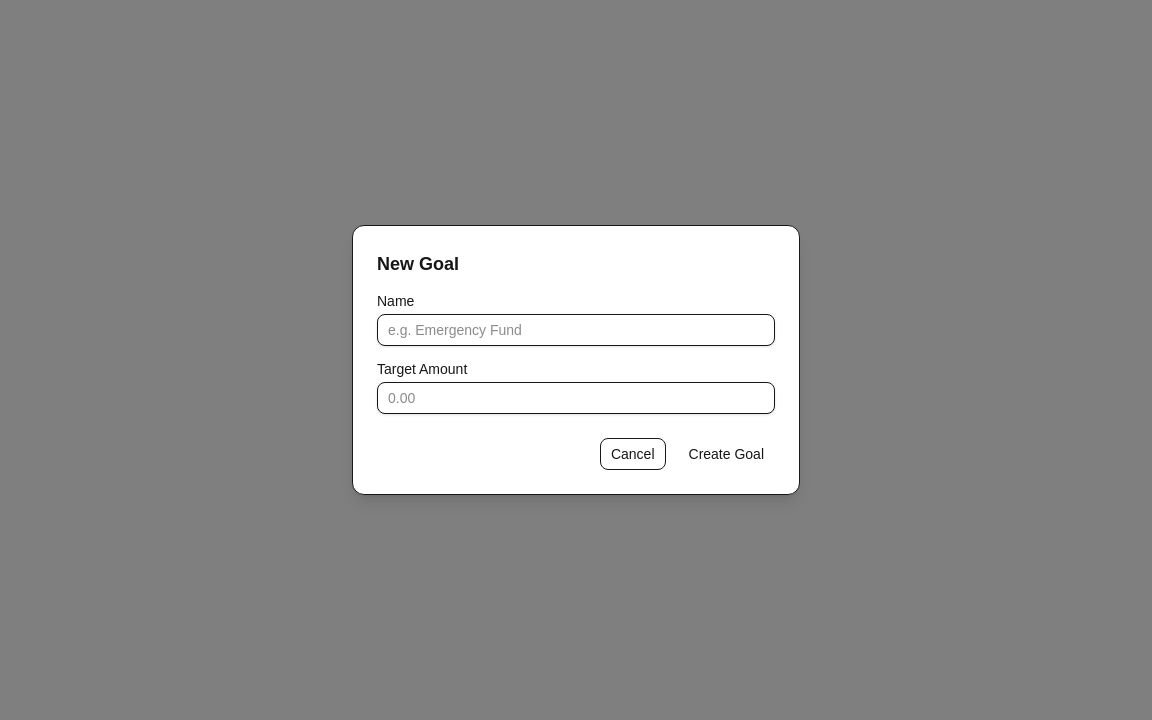
Scenario: NewSavingsGoalDialog › Validation: target must be a positive number › shows a target amount error when target is negative
The width and height of the screenshot is (1152, 720).
In the field labelled "Name": (576, 330) top-left (377, 314), bottom-right (775, 346), type "My Goal"
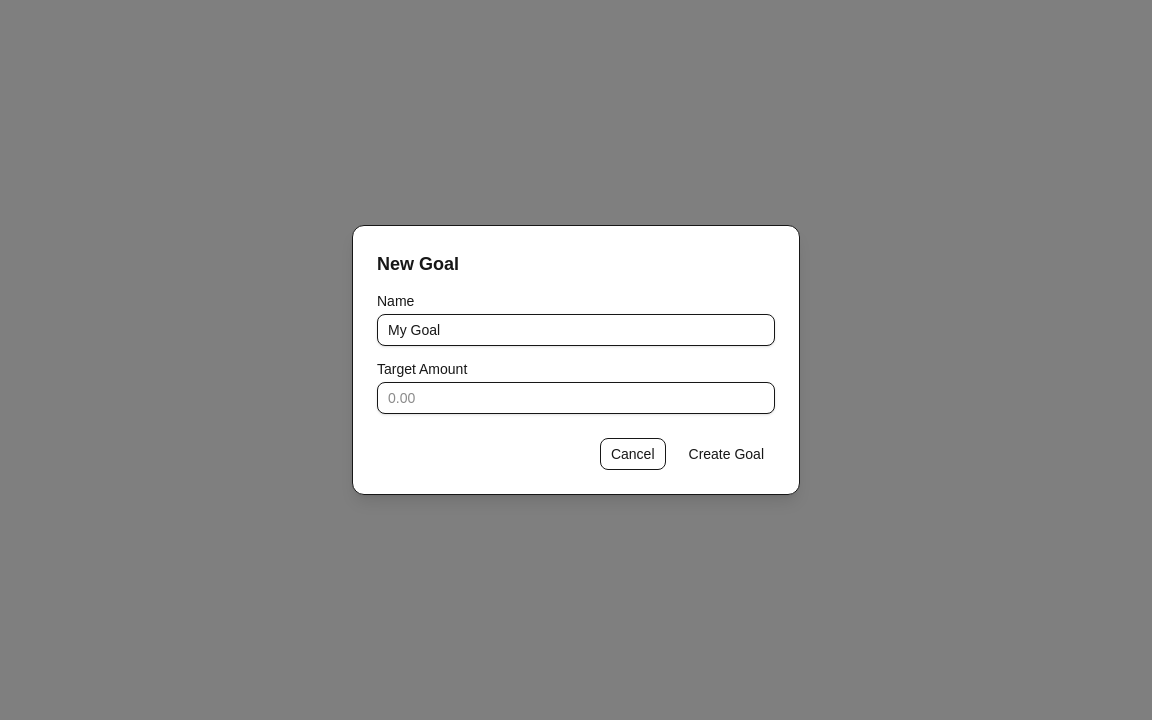
In the number field labelled "Target Amount": (576, 398) top-left (377, 382), bottom-right (775, 414), type "-100"
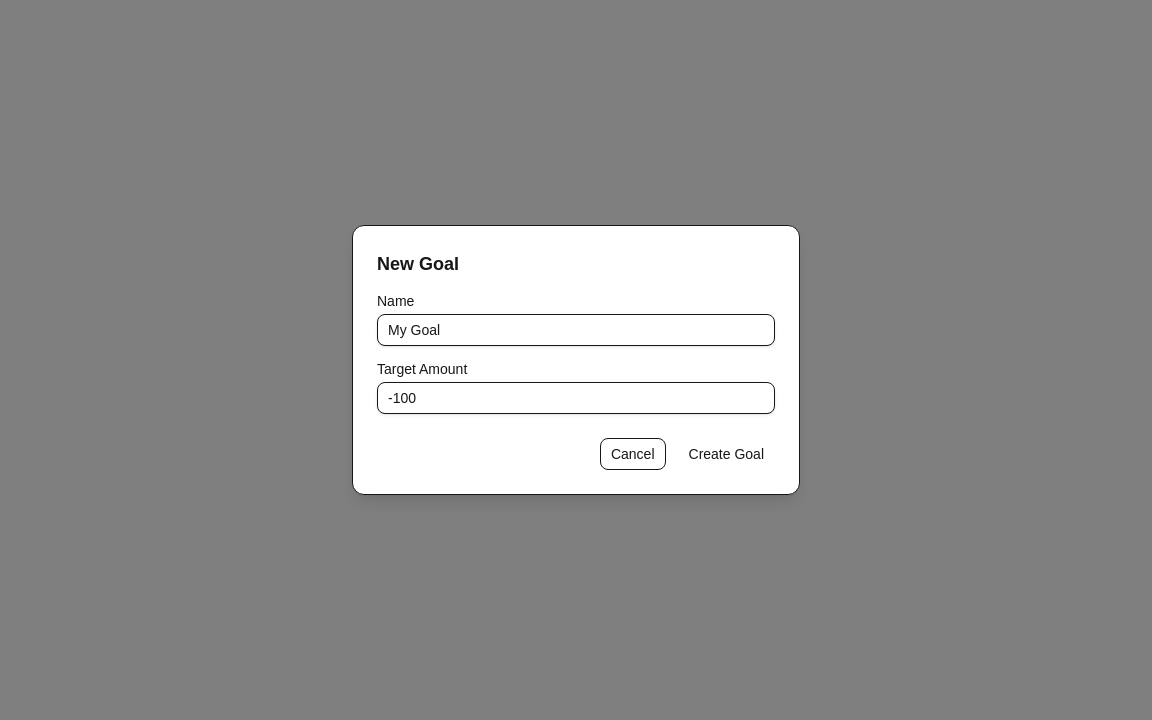
Submit the form, box top-left (377, 294), bottom-right (775, 470)
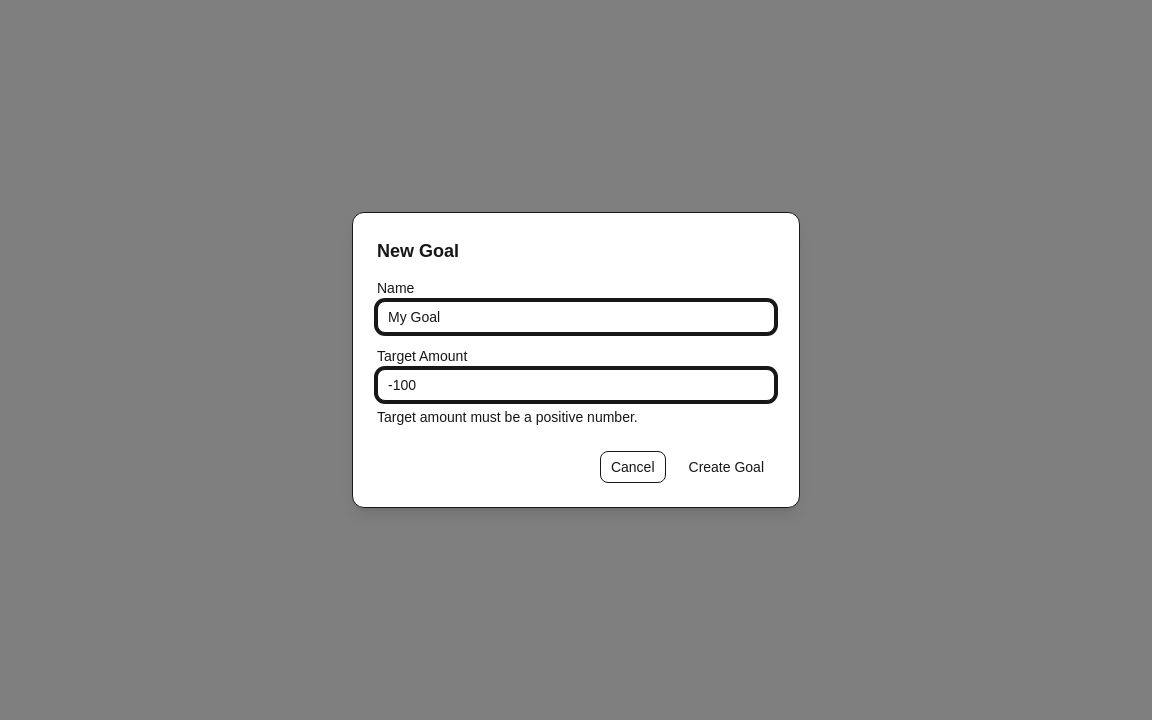
Expected: the text "Target amount must be a positive number." is shown, top-left (377, 409), bottom-right (638, 425)
